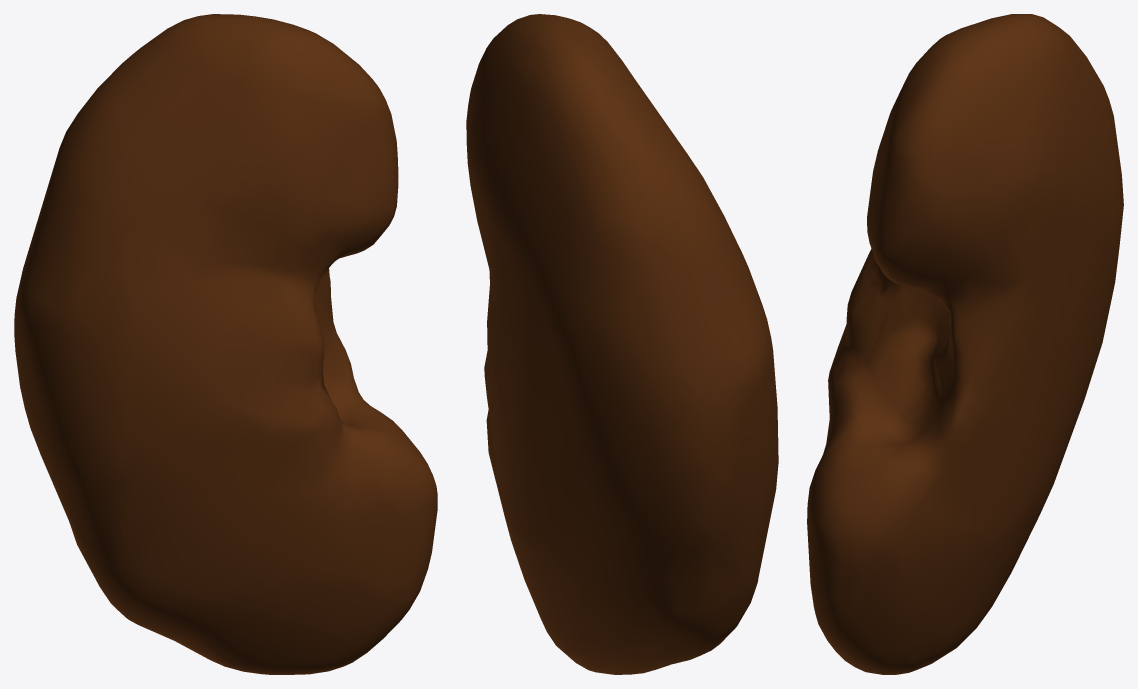
Rendered from Kidney_right.glb.
The picture shows the model from 3 angles, left to right: view 1: azimuth 30°, elevation 25°; view 2: azimuth 150°, elevation 25°; view 3: azimuth 270°, elevation 25°; orthographic projection. The views are drawn at different scales.
Visible parts, largest first — view 1: Kidney.r_grp1.712; view 2: Kidney.r_grp1.712; view 3: Kidney.r_grp1.712.
Part boxes in pixels (bbox=[...]): Kidney.r_grp1.712: bbox=[14, 14, 437, 674]; Kidney.r_grp1.712: bbox=[466, 14, 778, 674]; Kidney.r_grp1.712: bbox=[807, 14, 1123, 674].
Size of the model in its own units: 0.0571 by 0.1044 by 0.0472.
